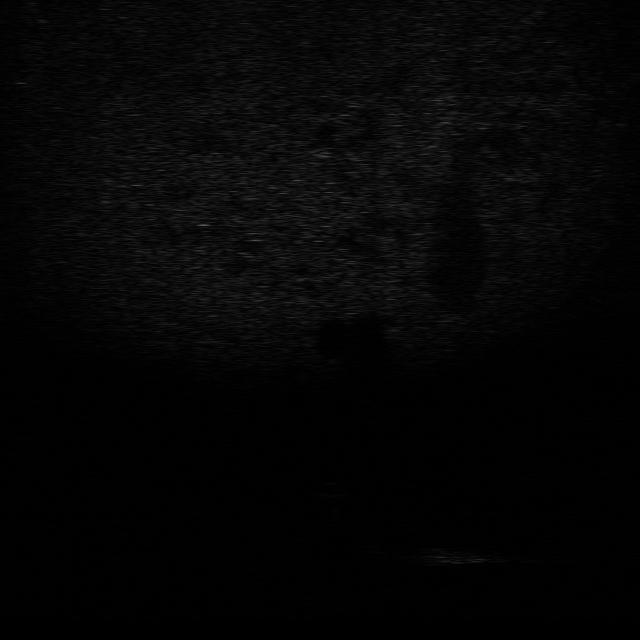ball: (315, 478, 354, 498)
metal bucket: (412, 541, 502, 566)
tyre: (350, 519, 406, 564)
